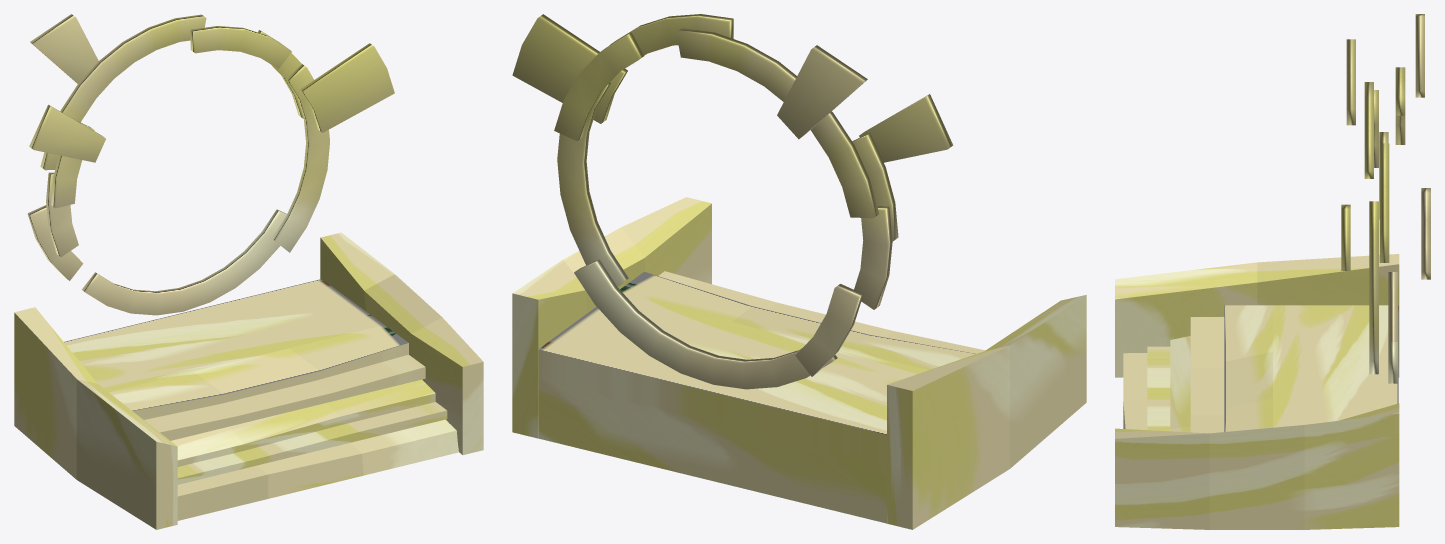
The model's file is portal.fbx.
3 renders of one model, left to right at view 1: azimuth 30°, elevation 25°; view 2: azimuth 150°, elevation 25°; view 3: azimuth 270°, elevation 25°, orthographic. The views are drawn at different scales.
Parts seen in each view (by area): view 1: Cube, Cylinder; view 2: Cube, Cylinder; view 3: Cube, Cylinder.
Boxes of the visible parts, x1=… form: Cube: x1=14, y1=232, x2=483, y2=529; Cylinder: x1=27, y1=14, x2=394, y2=315; Cube: x1=512, y1=197, x2=1086, y2=529; Cylinder: x1=512, y1=14, x2=953, y2=389; Cube: x1=1115, y1=254, x2=1399, y2=529; Cylinder: x1=1341, y1=14, x2=1430, y2=383.
Bounding box in the file's own units: 505 × 517 × 384.
